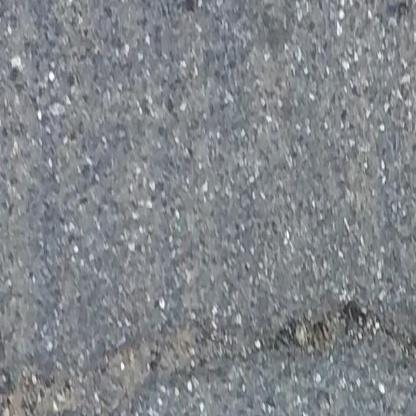Cracks: (0, 295, 416, 416)
